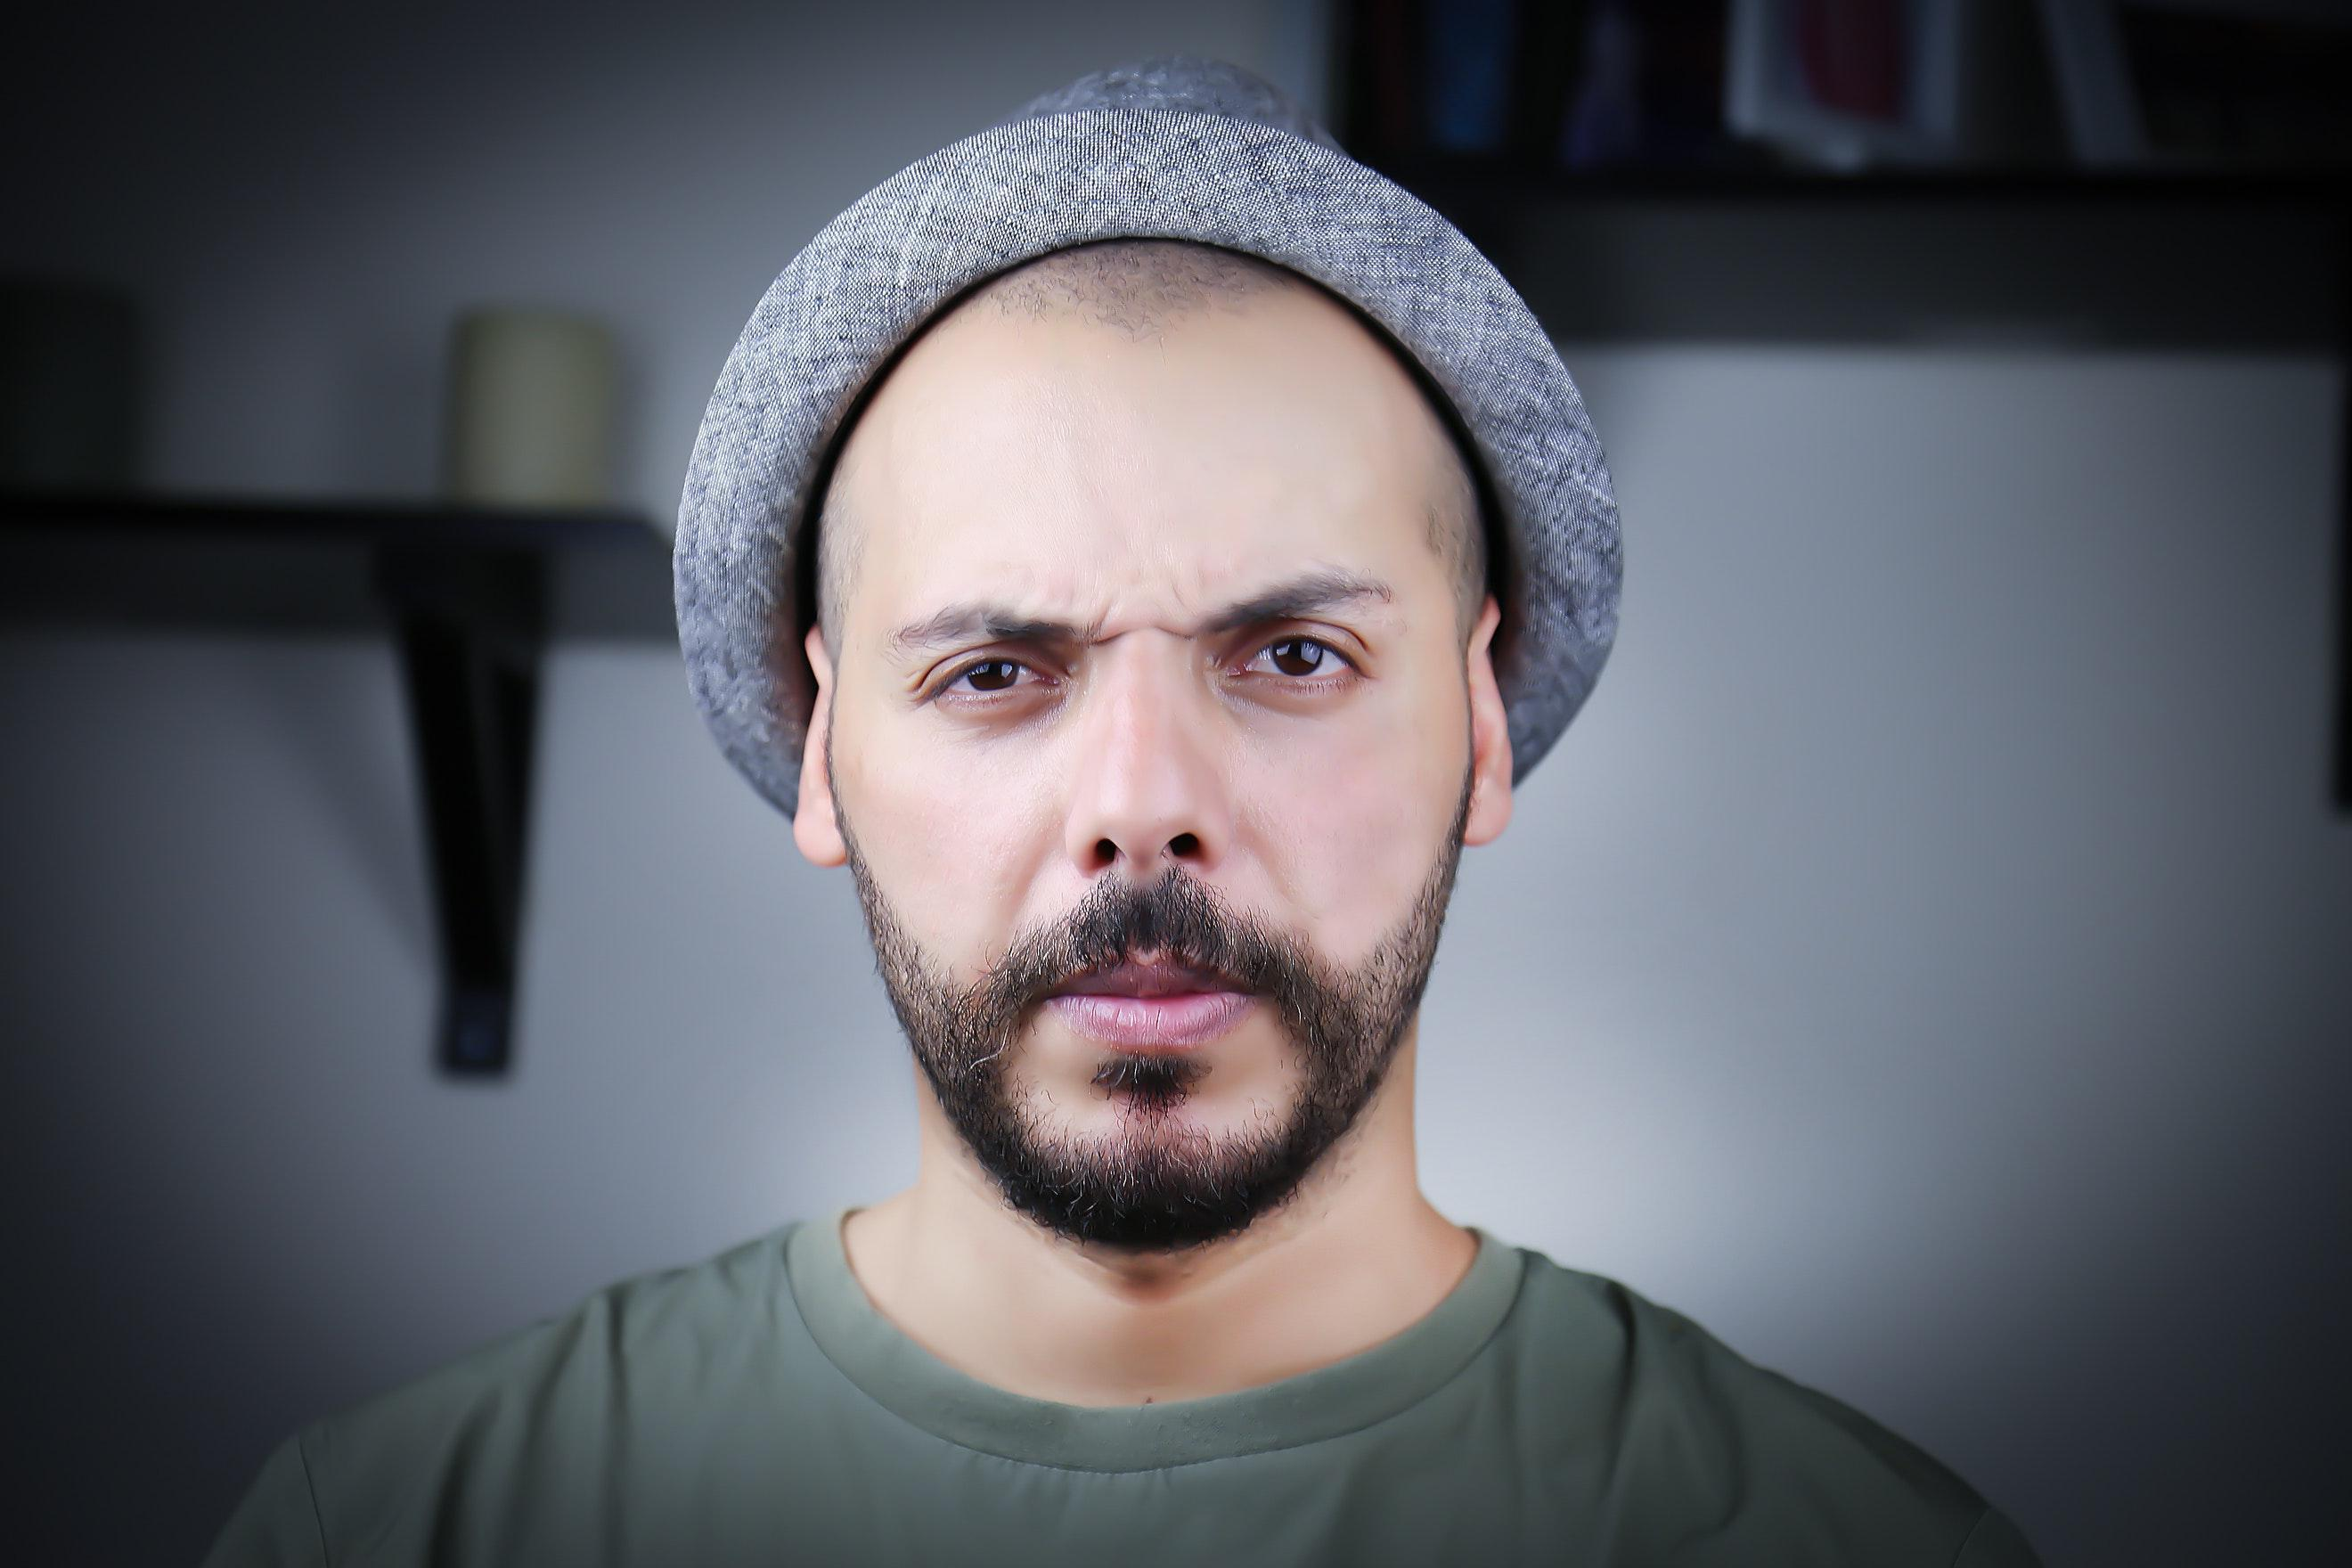Sober: (856, 408, 1458, 1143)
